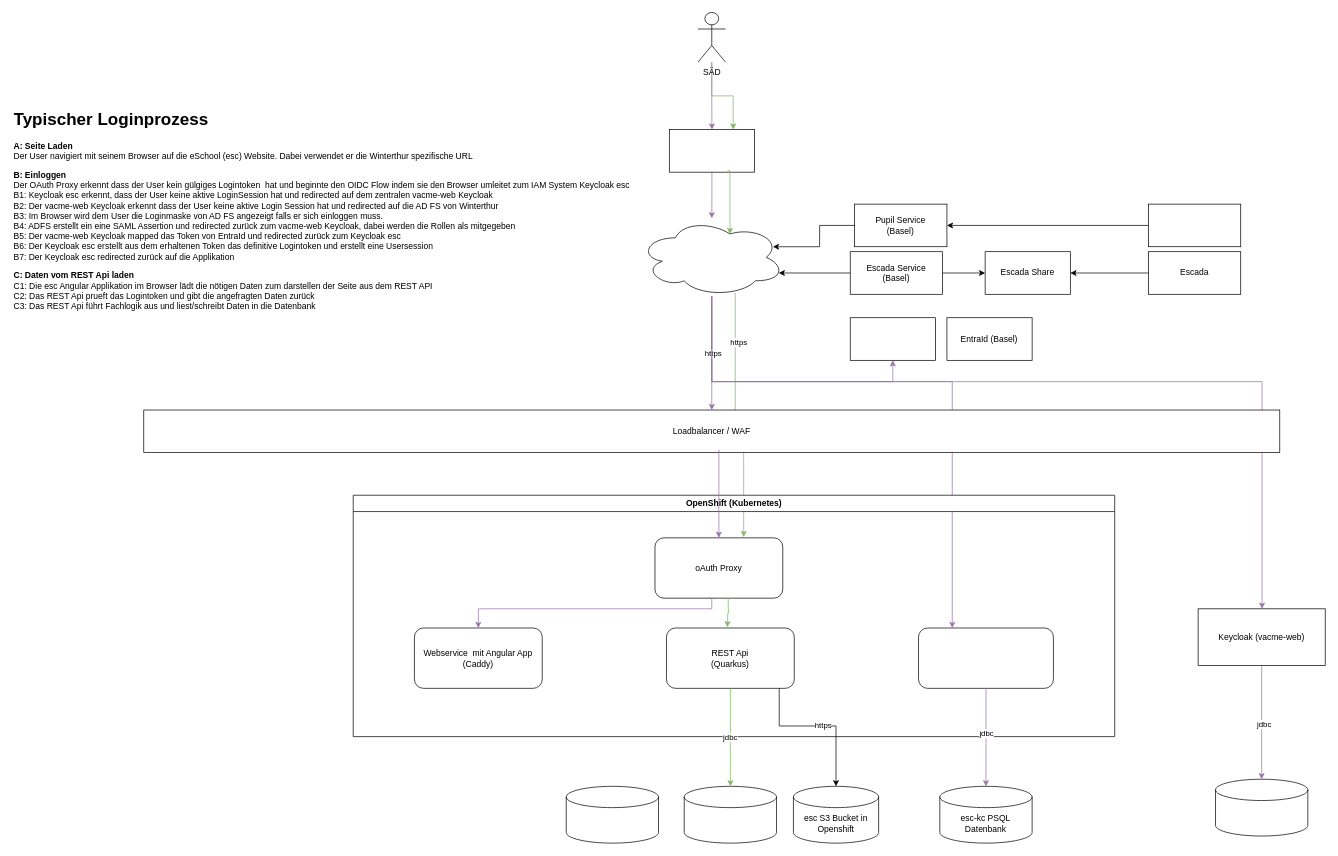
Some shapes in this 1338 by 856 pixel diagram are drawn without their labels. The shapes that lost their labels are listed below. From the top down, each one's box as (x1, y1, x2, y2) in pixels, then its label:
(669, 129, 755, 172): Browser
(1148, 203, 1241, 247): Pupil (win)
(850, 317, 935, 360): AD FS Win
(918, 627, 1053, 688): IAM System Keycloak (eSchool)
(566, 786, 659, 843): esc PSQL Datenbank Basel
(684, 786, 777, 843): esc PSQL Datenbank Win
(1215, 779, 1308, 836): vacme-web mysql Datenbank
